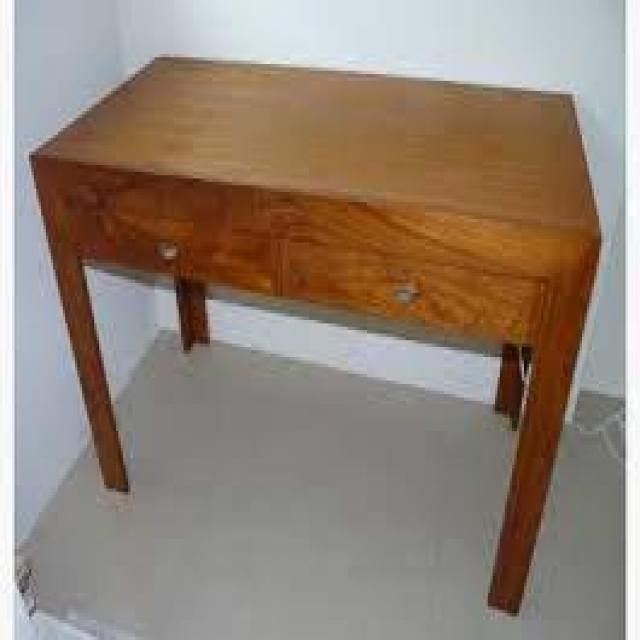table: (21, 25, 605, 625)
